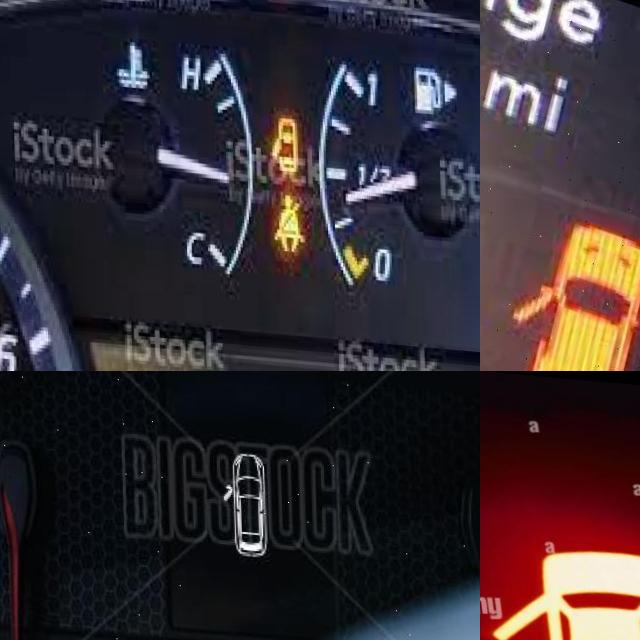Seat Belt: (267, 187, 307, 249)
